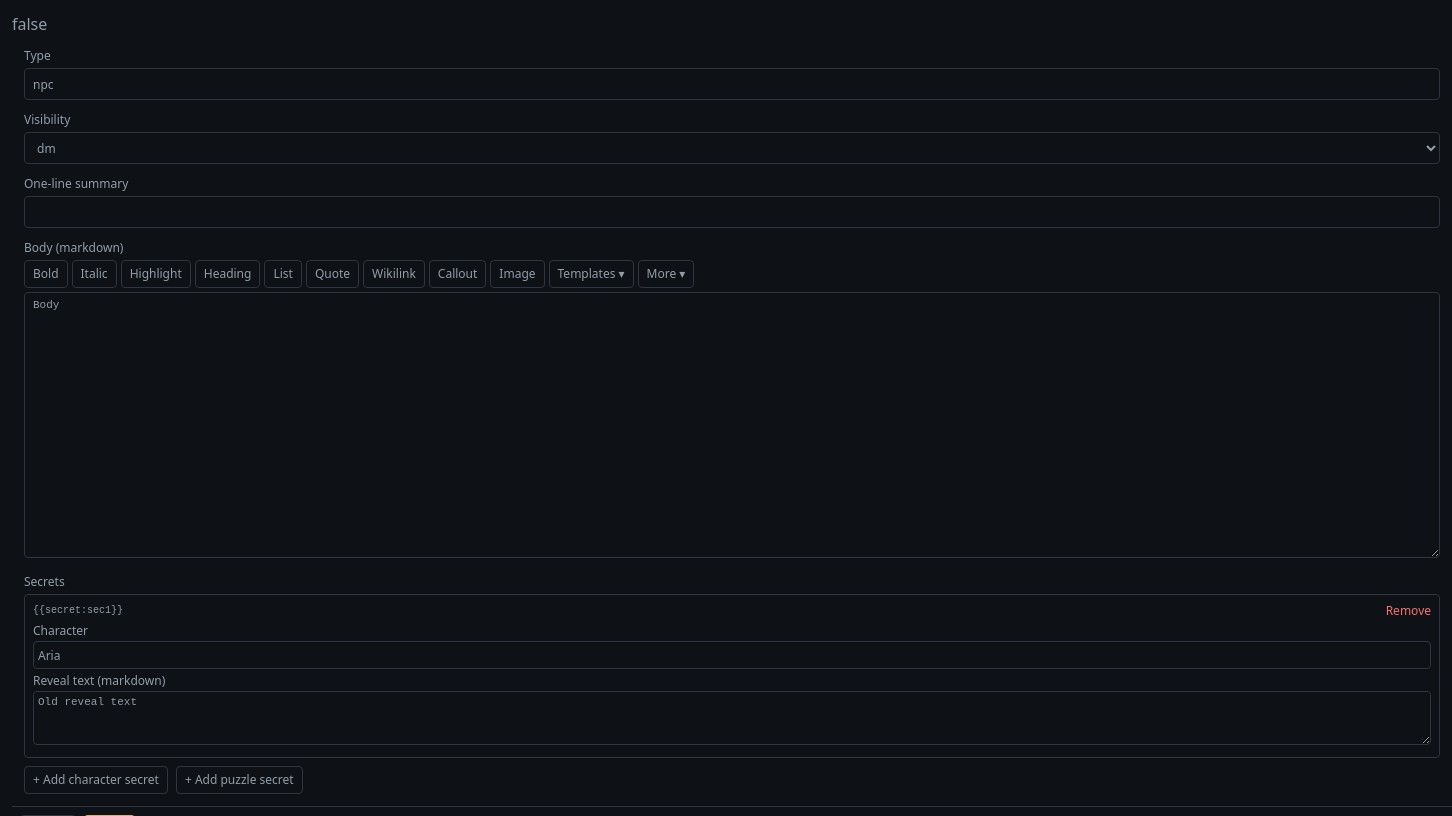
Test: EntityEditPanel — secret edits mark the draft dirty (N99) › editing an existing secret's reveal text flips isDirty from false to true
The image size is (1452, 816).
Expected: the text with test id "dirty" reads "false", 12,13 -> 47,35
Replace the text in the text box showing "Old reveal text" with "New reveal text". click: [732, 718]
box: 33,691 -> 1431,745
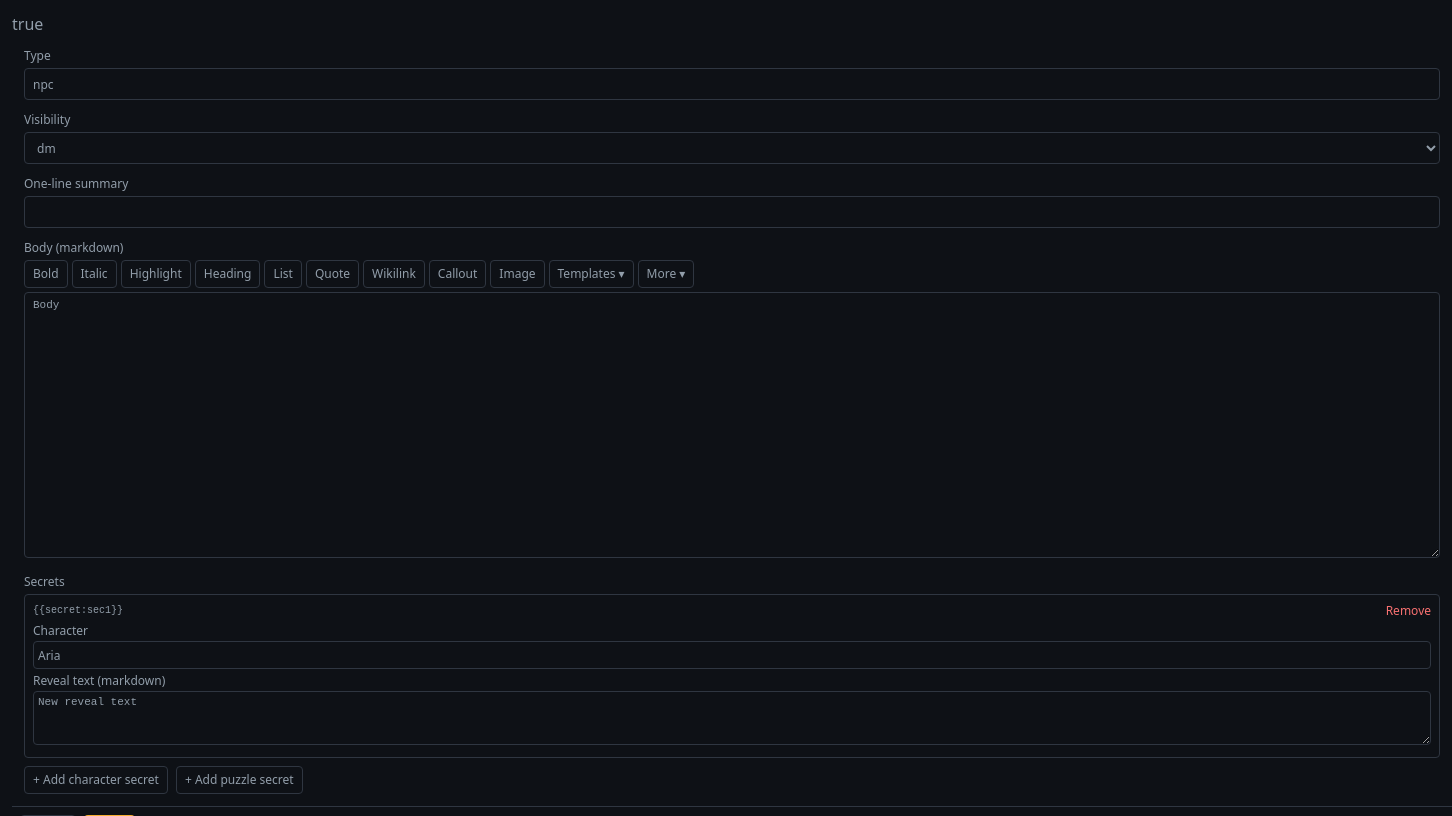
Result: the text with test id "dirty" reads "true" at 12,13 -> 43,35
